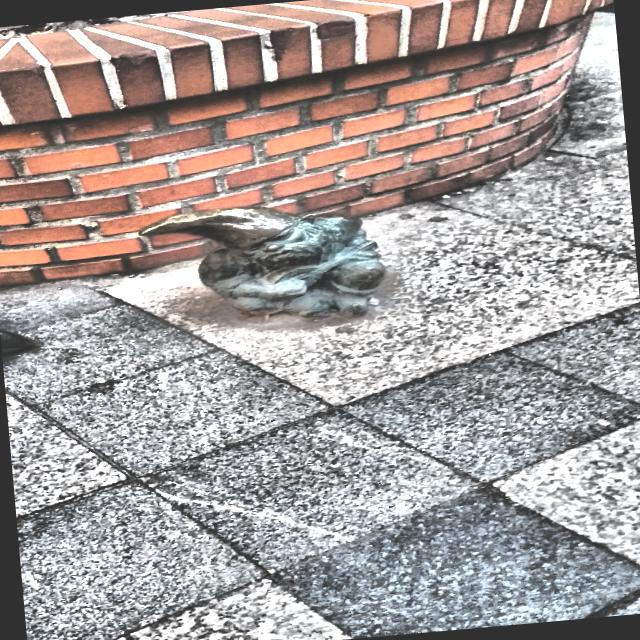Grajek_i_Meloman: (138, 207, 387, 322)
